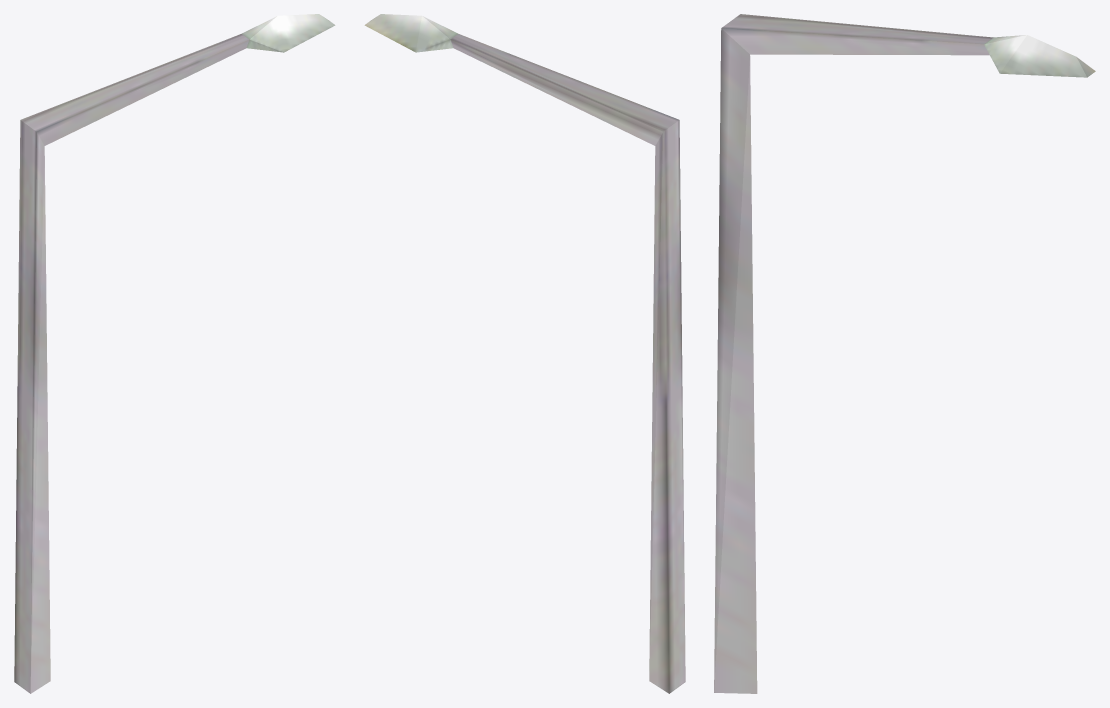
The model's file is lamp11.glb.
The picture shows the model from 3 angles, left to right: view 1: azimuth 30°, elevation 25°; view 2: azimuth 150°, elevation 25°; view 3: azimuth 330°, elevation 25°; orthographic projection. The views are drawn at different scales.
Visible parts, largest first — view 1: lamp11; view 2: lamp11; view 3: lamp11.
Boxes of the visible parts, x1=… form: lamp11: x1=14, y1=14, x2=335, y2=693; lamp11: x1=364, y1=14, x2=685, y2=693; lamp11: x1=714, y1=14, x2=1095, y2=693.
Bounding box in the file's own units: 431 × 812 × 70.98.
Materials: 1 (1 with a texture image).
